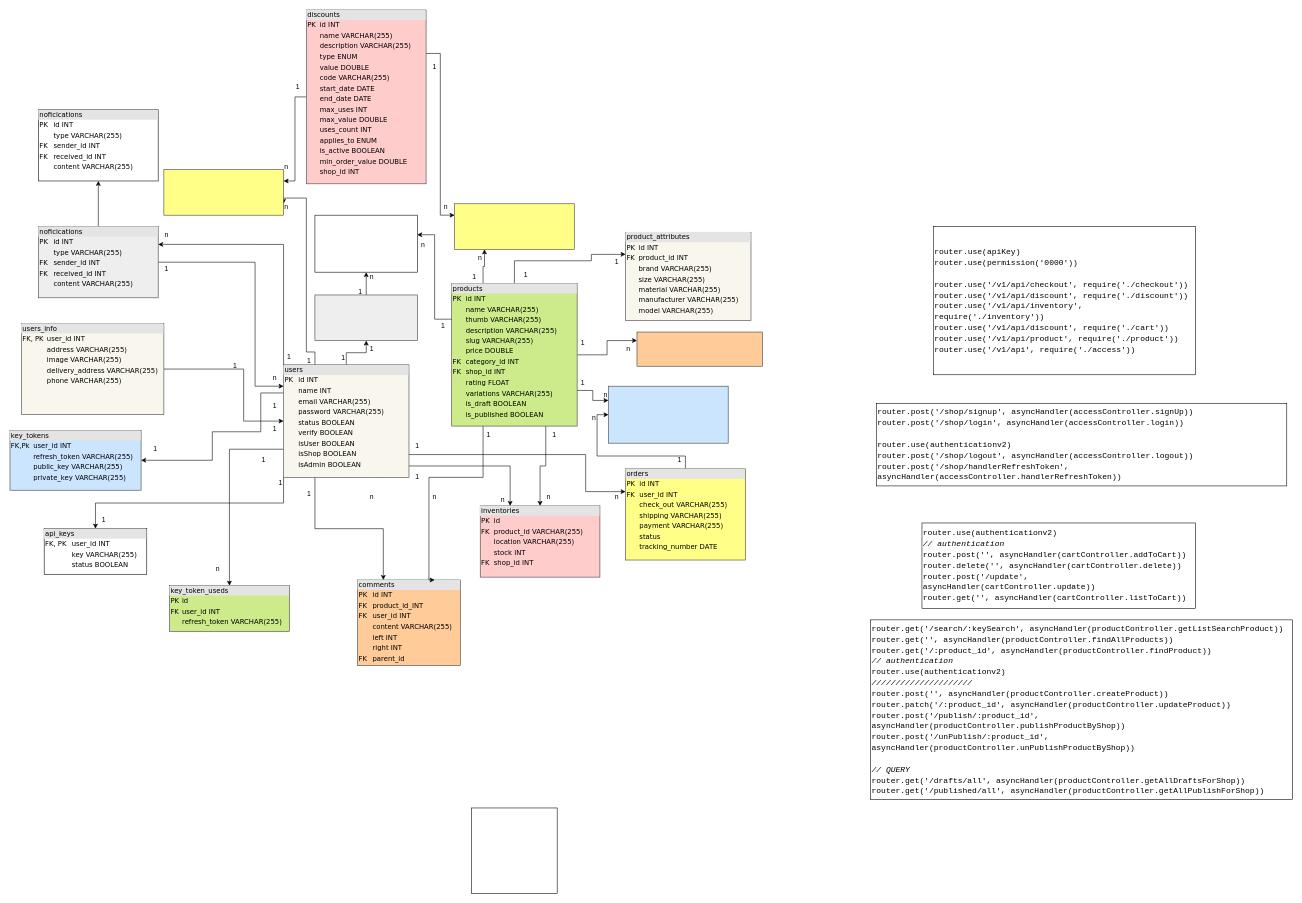
The diagram is 1302 pixels wide and 903 high, and some of its shapes have lost their labels. Here are the shapes that lost their labels. From the top down, the centre of each, then its label:
At pixel 223 192: "discounts_user_useds PK id INT FK discount_id INT FK user_id INT".
At pixel 366 243: "cart_items PK id INT FK product_id INT FK cart_id INT quantity INT".
At pixel 514 226: "discounts_products PK id INT FK discount_id INT FK product_id INT".
At pixel 366 317: "carts PK id INT state ENUM FK user_id".
At pixel 699 348: "categories PK id INT name VARCHAR(255)".
At pixel 668 414: "order_details PK id INT FK order_id INT FK product_id INT quantity INT".
At pixel 514 850: "BadRequestError AuthFailureError ForbiddenError NotFoundError CREATED OK".
